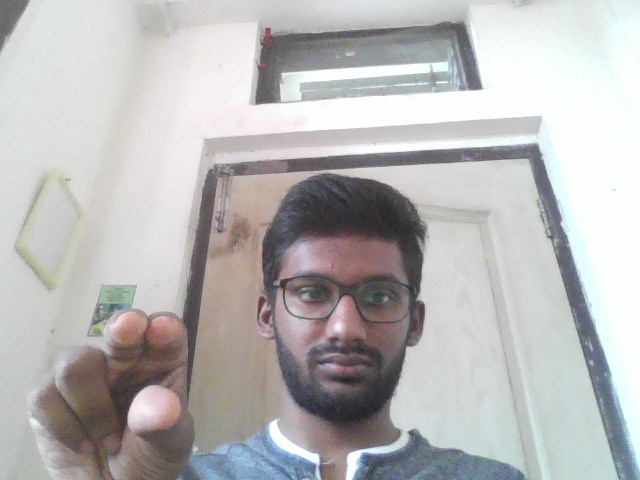No: (23, 307, 201, 480)
